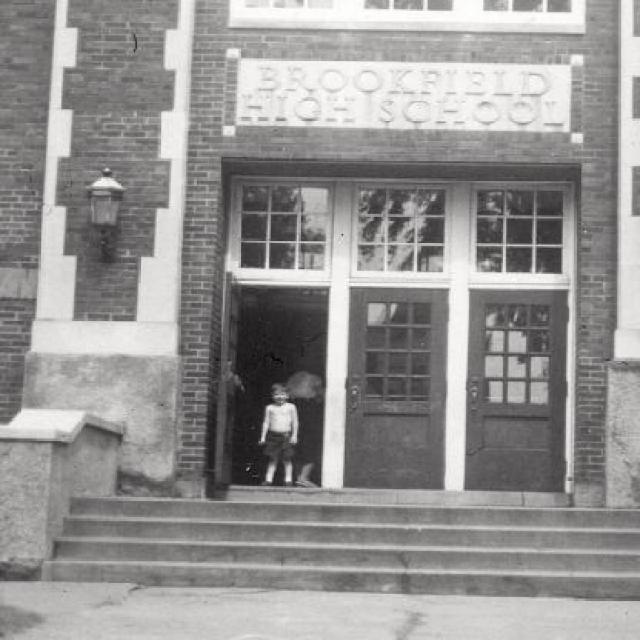stair: (38, 495, 640, 597)
